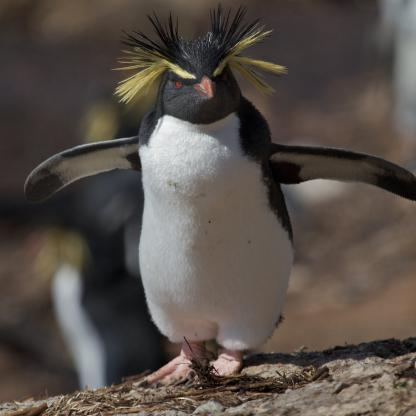Penguin: (16, 0, 415, 398)
